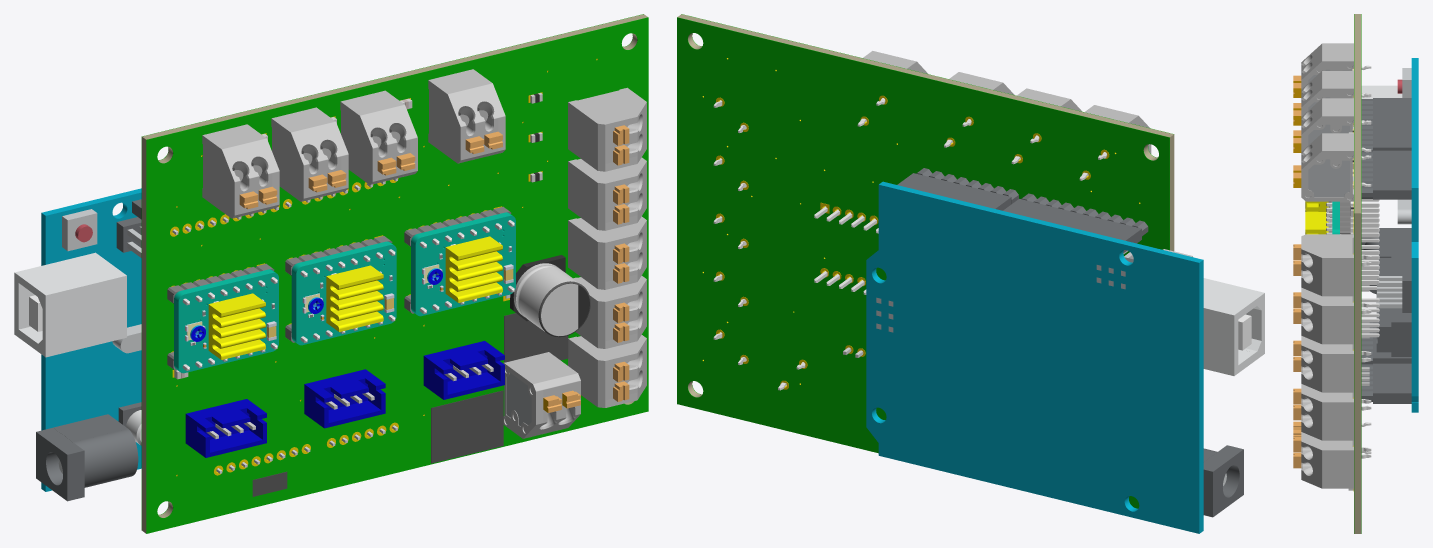
File: farmtron-v3.glb
3 renders of one model, left to right at view 1: azimuth 30°, elevation 25°; view 2: azimuth 150°, elevation 25°; view 3: azimuth 270°, elevation 25°, orthographic. The views are drawn at different scales.
Parts seen in each view (by area): view 1: SemiTransparent(0,128,0), Opaque(153,153,153), Opaque(0,143,98), Opaque(0,118,169), Opaque(0,0,160), Opaque(255,255,0), Opaque(221,226,228), Opaque(43,46,49), Plastic_-_Matte_(Black), Opaque(145,145,145), Opaque(238,119,34), Opaque(120,110,70) (+9 smaller); view 2: SemiTransparent(0,128,0), Opaque(0,118,169), Opaque(43,46,49), Opaque(221,226,228), Opaque(120,110,70), Opaque(153,153,153), Opaque(255,191,0), Opaque(221,221,221), Opaque(229,229,229); view 3: Opaque(153,153,153), Opaque(43,46,49), Opaque(120,110,70), Opaque(0,118,169), Opaque(229,229,229), Opaque(238,119,34), Opaque(129,136,140), Opaque(167,173,177), SemiTransparent(0,128,0), Opaque(221,221,221), Opaque(255,255,0), Opaque(221,226,228) (+4 smaller).
Part boxes in pixels (x1,y1,x2,y2): SemiTransparent(0,128,0): (141, 14, 648, 533); Opaque(153,153,153): (202, 69, 646, 438); Opaque(0,143,98): (174, 212, 515, 373); Opaque(0,118,169): (41, 188, 141, 491); Opaque(0,0,160): (185, 341, 504, 457); Opaque(255,255,0): (208, 236, 502, 359); Opaque(221,226,228): (14, 252, 141, 445); Opaque(43,46,49): (36, 199, 141, 501); Plastic_-_Matte_(Black): (252, 281, 590, 496); Opaque(145,145,145): (234, 117, 637, 422); Opaque(238,119,34): (239, 125, 629, 412); Opaque(120,110,70): (142, 14, 647, 533); SemiTransparent(0,128,0): (677, 14, 1173, 508); Opaque(0,118,169): (866, 181, 1203, 533); Opaque(43,46,49): (897, 168, 1243, 517); Opaque(221,226,228): (1203, 278, 1264, 375); Opaque(120,110,70): (677, 14, 1174, 397); Opaque(153,153,153): (863, 51, 1151, 153); Opaque(255,191,0): (702, 58, 1140, 389); Opaque(221,221,221): (713, 98, 1106, 390); Opaque(229,229,229): (814, 206, 878, 294); Opaque(153,153,153): (1301, 43, 1353, 488); Opaque(43,46,49): (1361, 98, 1411, 403); Opaque(120,110,70): (1354, 14, 1361, 533); Opaque(0,118,169): (1411, 58, 1418, 412); Opaque(229,229,229): (1326, 170, 1379, 337); Opaque(238,119,34): (1293, 75, 1301, 468); Opaque(129,136,140): (1308, 69, 1349, 196); Opaque(167,173,177): (1377, 68, 1411, 308); SemiTransparent(0,128,0): (1354, 14, 1361, 533); Opaque(221,221,221): (1352, 65, 1371, 458); Opaque(255,255,0): (1305, 201, 1328, 234); Opaque(221,226,228): (1361, 85, 1402, 98).
Size of the model in its own units: 12.11 by 7.62 by 2.7.
